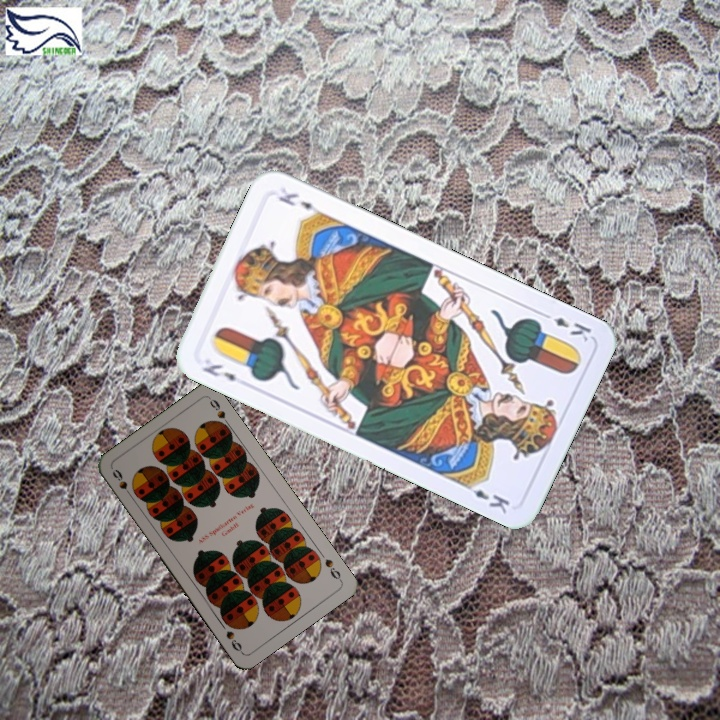EK: (537, 308, 594, 344), (198, 359, 239, 384)
S9: (108, 465, 136, 501), (321, 555, 344, 584)
